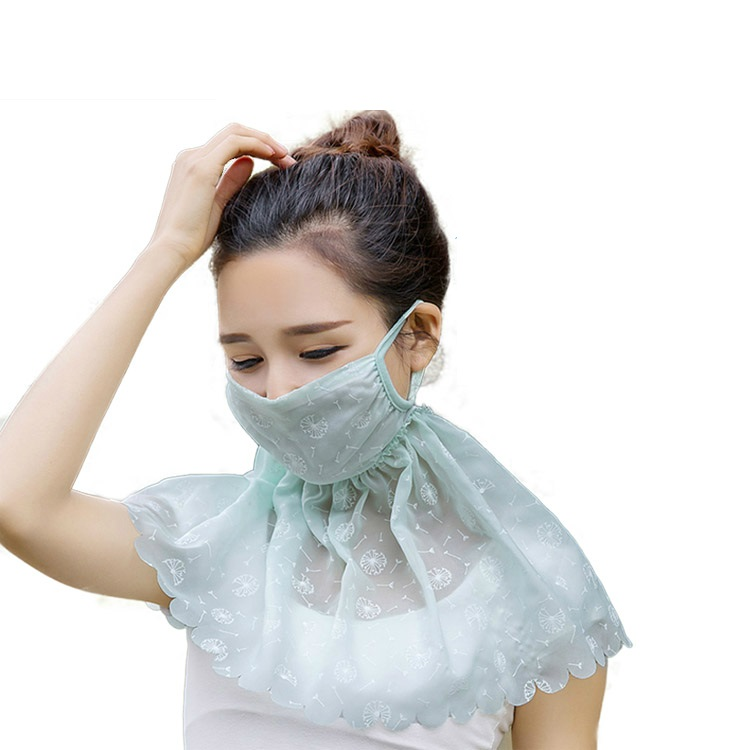face_mask: (217, 247, 398, 483)
